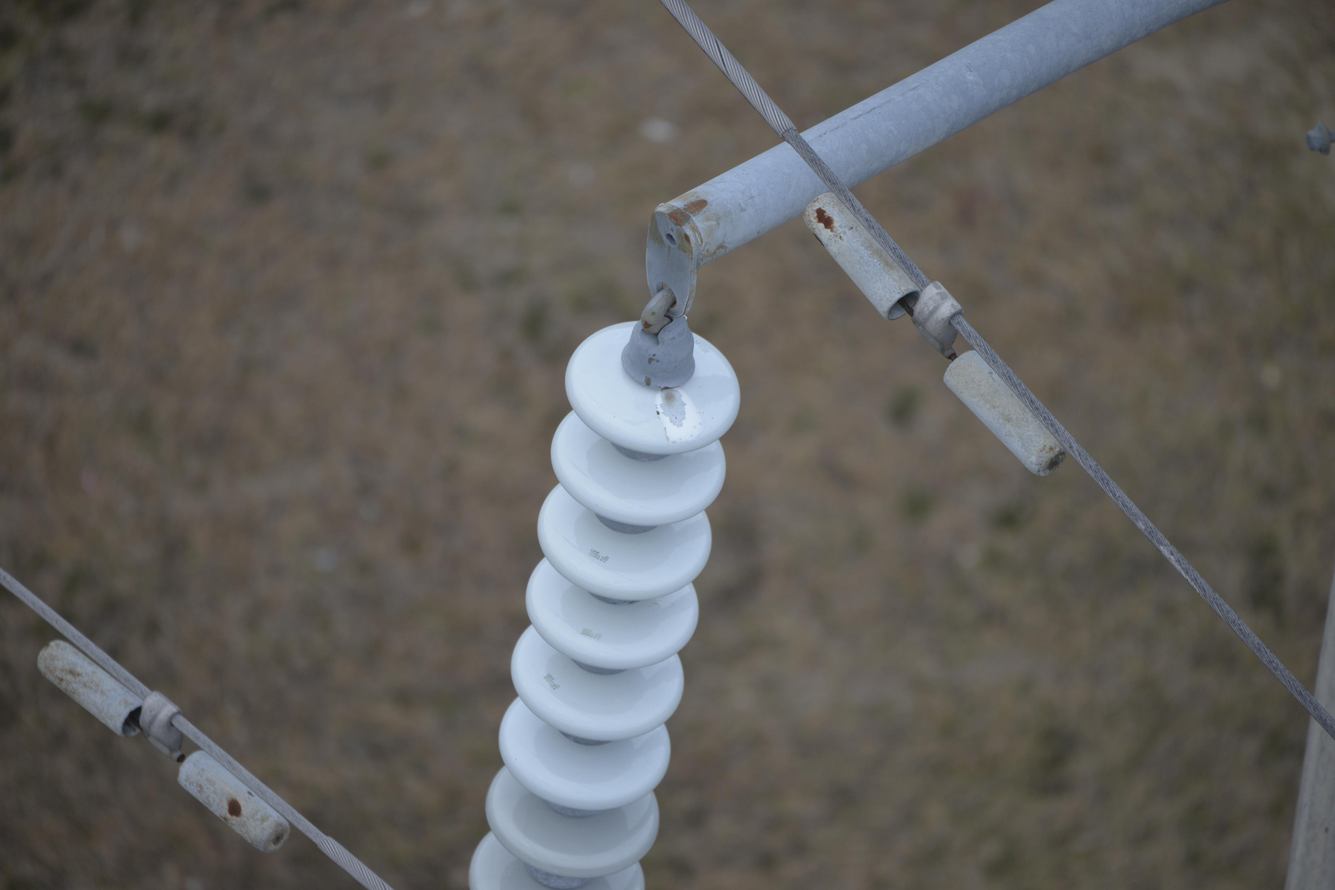Flashover: (650, 375, 705, 446)
hammer: (807, 180, 1074, 480), (41, 623, 293, 854)
insulator: (464, 320, 744, 890)
